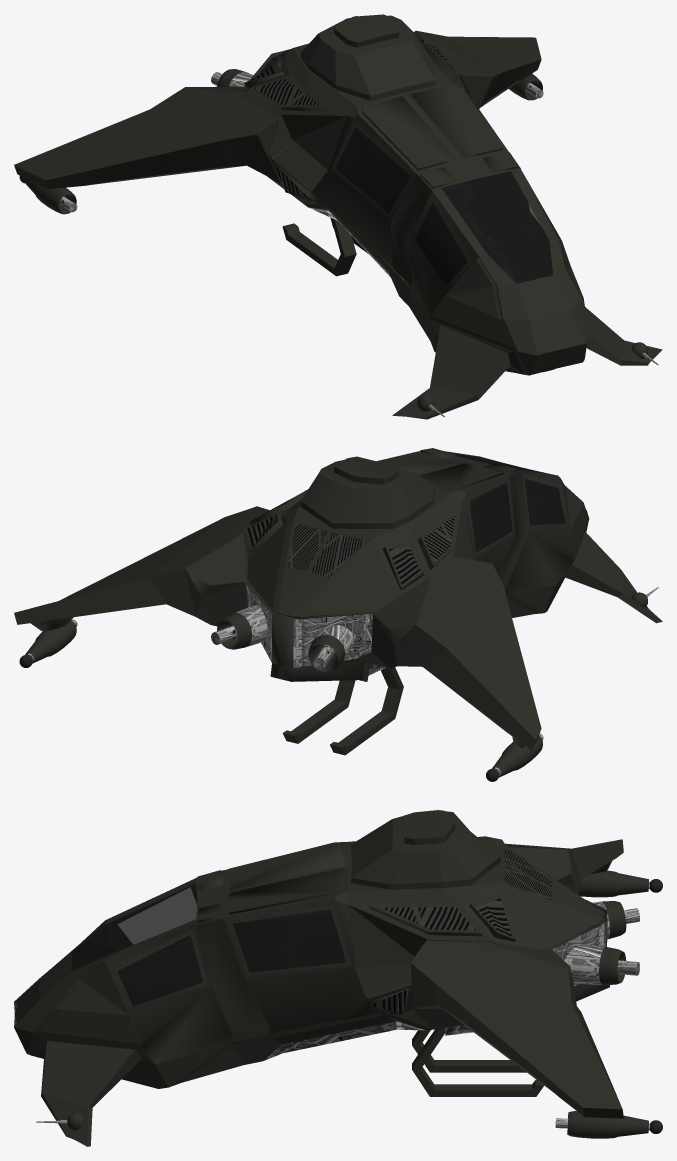
The model's file is escort.glb.
The picture shows the model from 3 angles, top to bottom: view 1: azimuth 30°, elevation 25°; view 2: azimuth 150°, elevation 25°; view 3: azimuth 270°, elevation 25°; orthographic projection. The views are drawn at different scales.
Size of what is drawn, in the model's own units: 8.85 by 3.95 by 8.99.
Materials: 7 (2 with a texture image).
